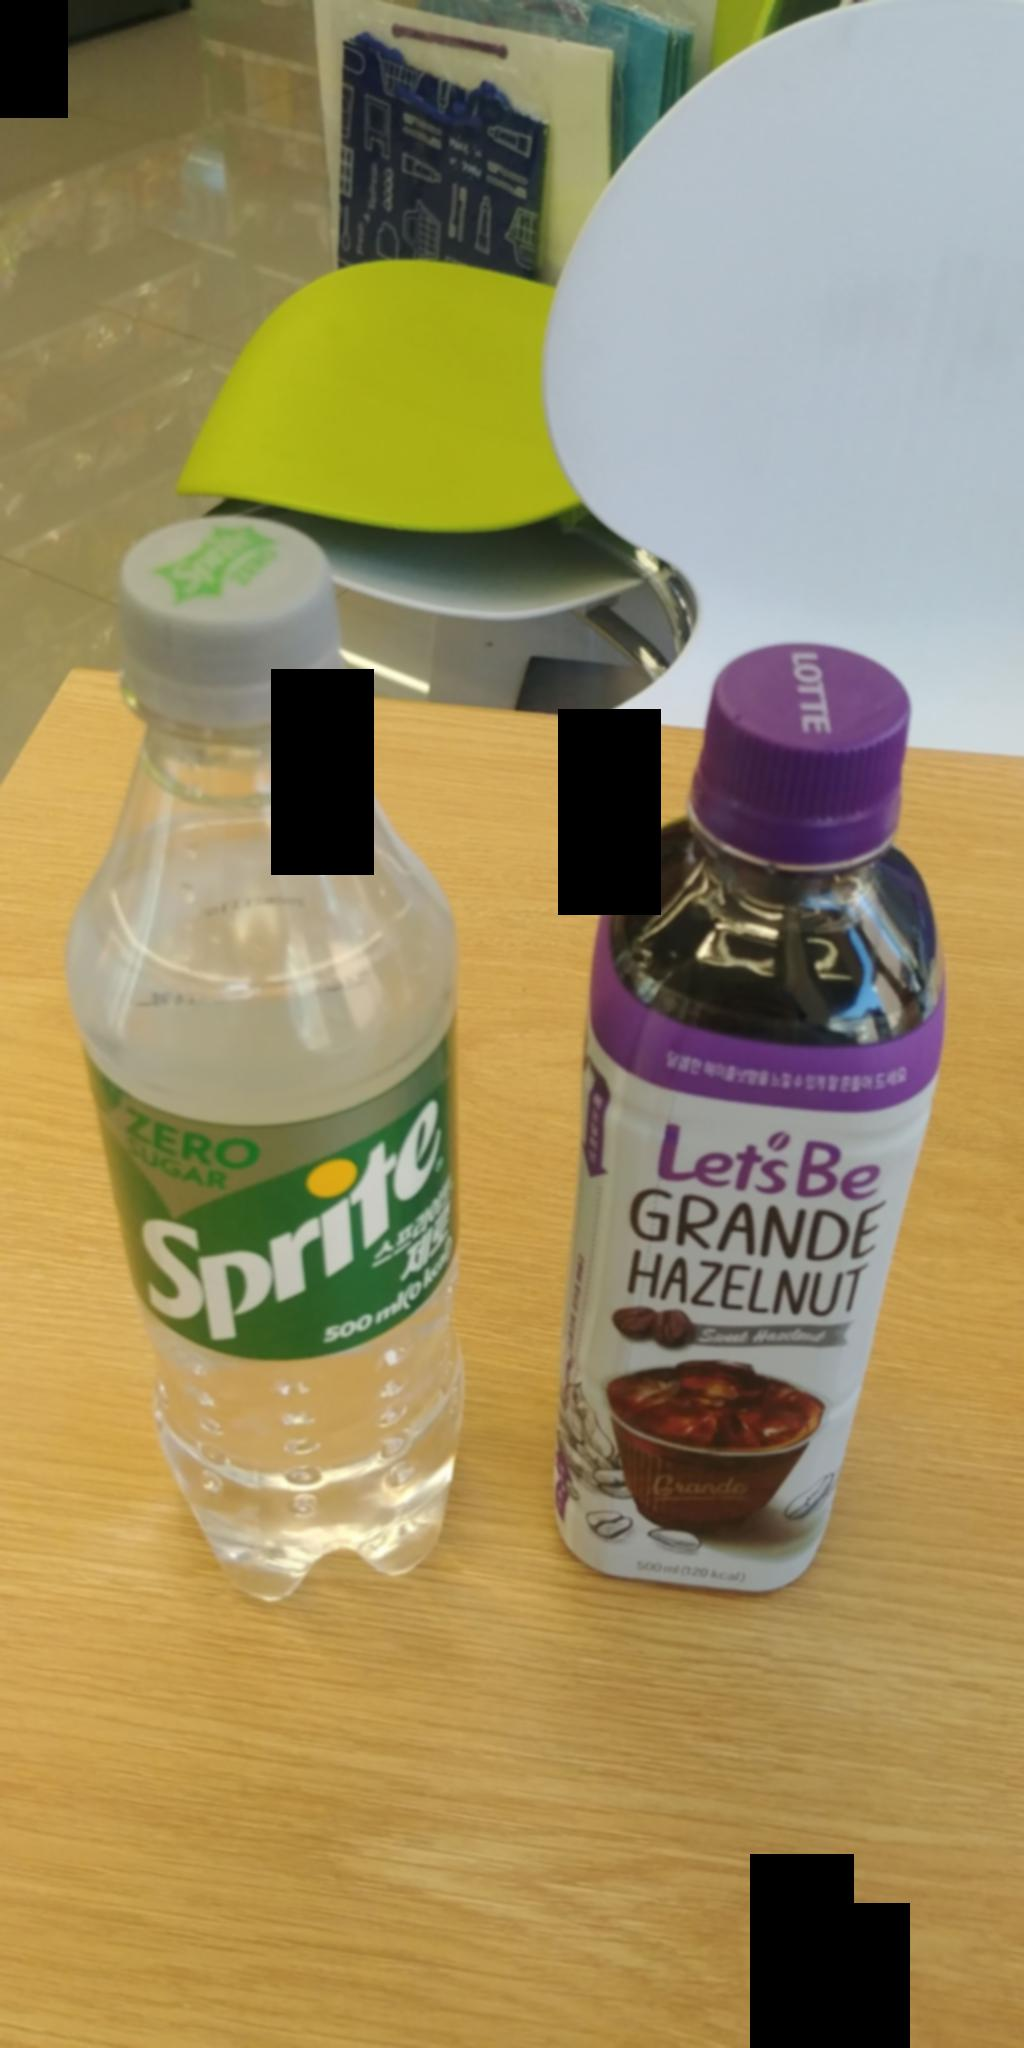letsbe_grande_hazelnut: (546, 603, 934, 1604)
sprite_zero: (51, 498, 505, 1651)
